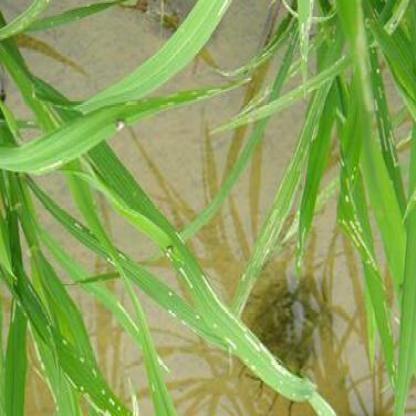rice-bug: (165, 240, 175, 256), (116, 117, 126, 132)
